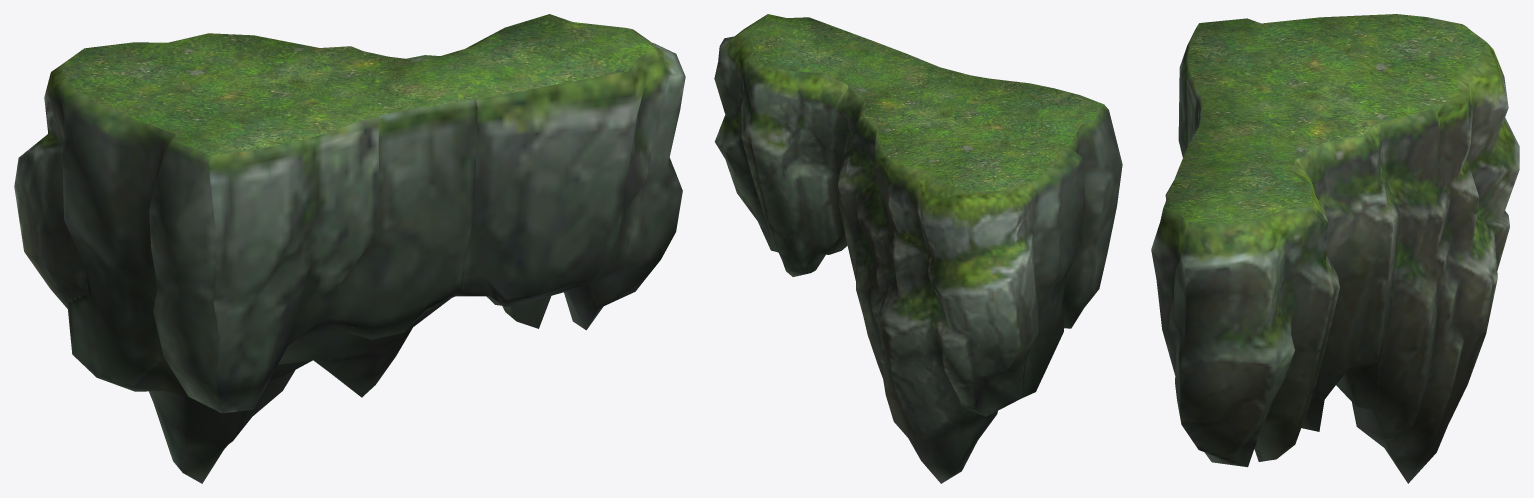
Rendered from S_Rock_Green058.FBX.
The picture shows the model from 3 angles, left to right: view 1: azimuth 30°, elevation 25°; view 2: azimuth 150°, elevation 25°; view 3: azimuth 270°, elevation 25°; orthographic projection. The views are drawn at different scales.
Parts seen in each view (by area): view 1: S_Rock_Green058; view 2: S_Rock_Green058; view 3: S_Rock_Green058.
Boxes of the visible parts, x1,y1,x2,y2 form: S_Rock_Green058: [14, 14, 685, 483]; S_Rock_Green058: [714, 14, 1122, 483]; S_Rock_Green058: [1151, 14, 1519, 483].
Size of the model in its own units: 1913 by 1535 by 1223.
